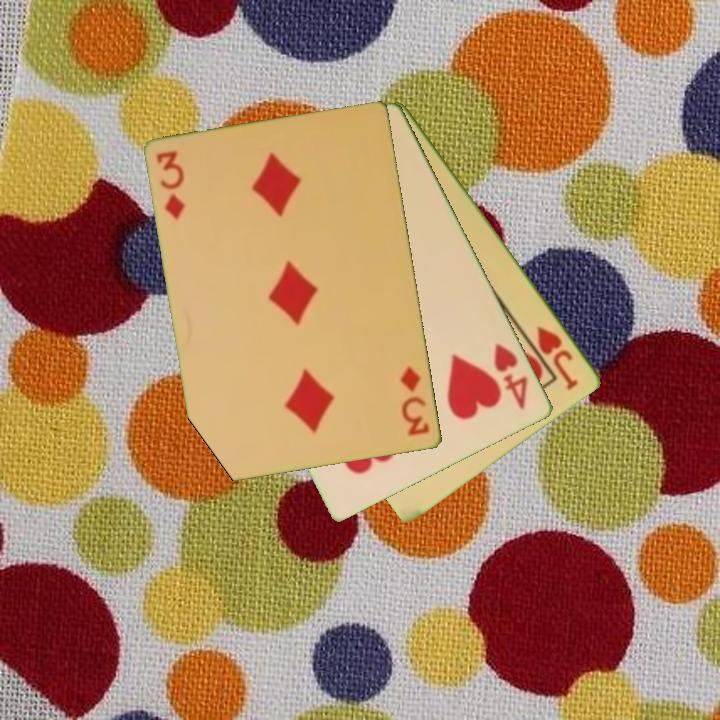3d: (397, 363, 433, 439), (153, 147, 189, 223)
4h: (490, 340, 531, 413)
Jh: (533, 322, 582, 393)
